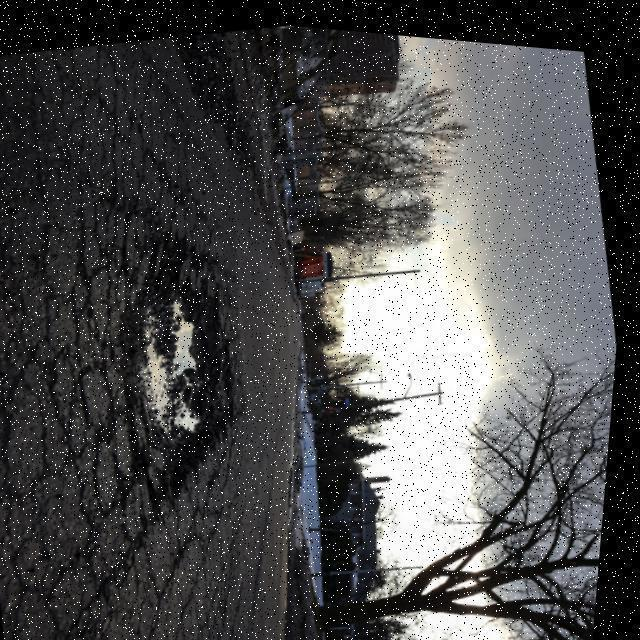Pothole: (130, 273, 248, 465)
